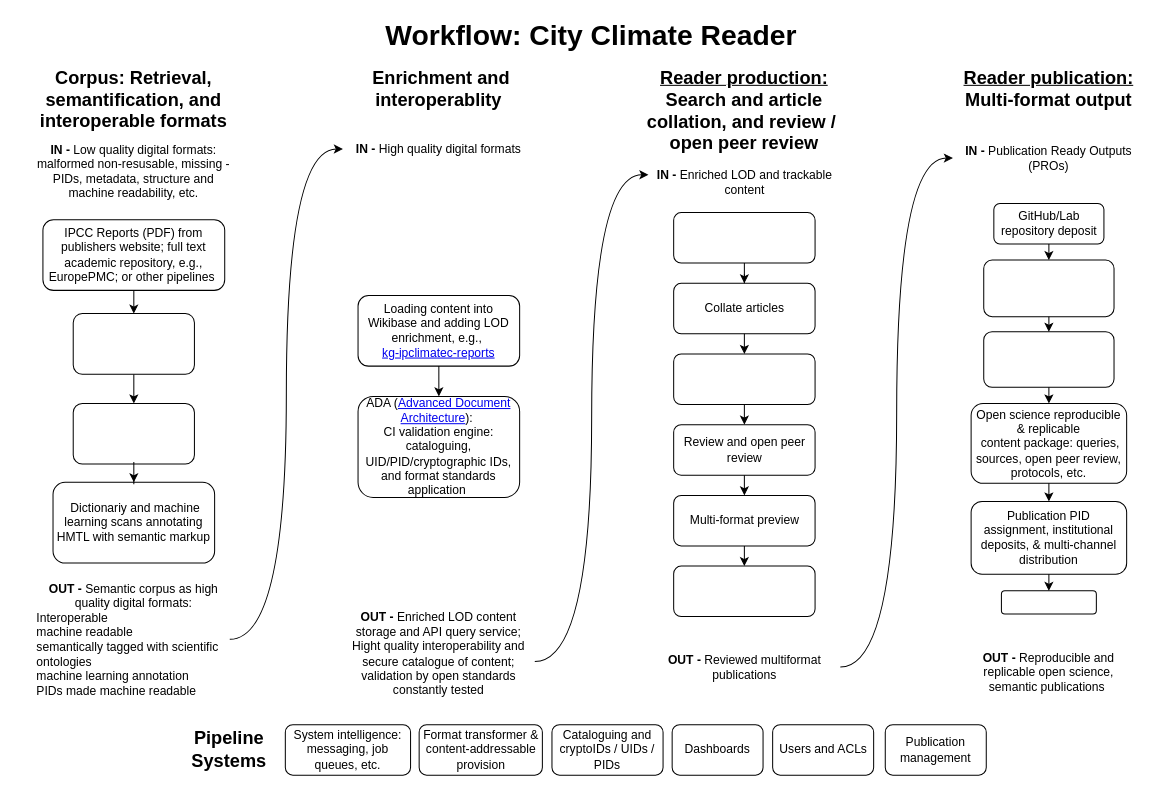
The diagram is 1162 pixels wide and 804 high, and some of its shapes have lost their labels. The shapes that lost their labels are listed below. From the top down, each one's centre as x and y in pixels, then its label:
At (x=744, y=237): "Search and filter articles".
At (x=1048, y=288): "Website GitHub/Lab Pages displaying all formats".
At (x=133, y=343): "py4ami processess PDFs (if needed)".
At (x=1048, y=359): "LOD access page i.e: linking to sources and all outputs, and reuse".
At (x=744, y=379): "Create 'Reader' introductions, etc.".
At (x=133, y=433): "Converted to Scholarly HTML".
At (x=744, y=591): "Multi-format publication creation".
At (x=1048, y=602): "Metrics data".
